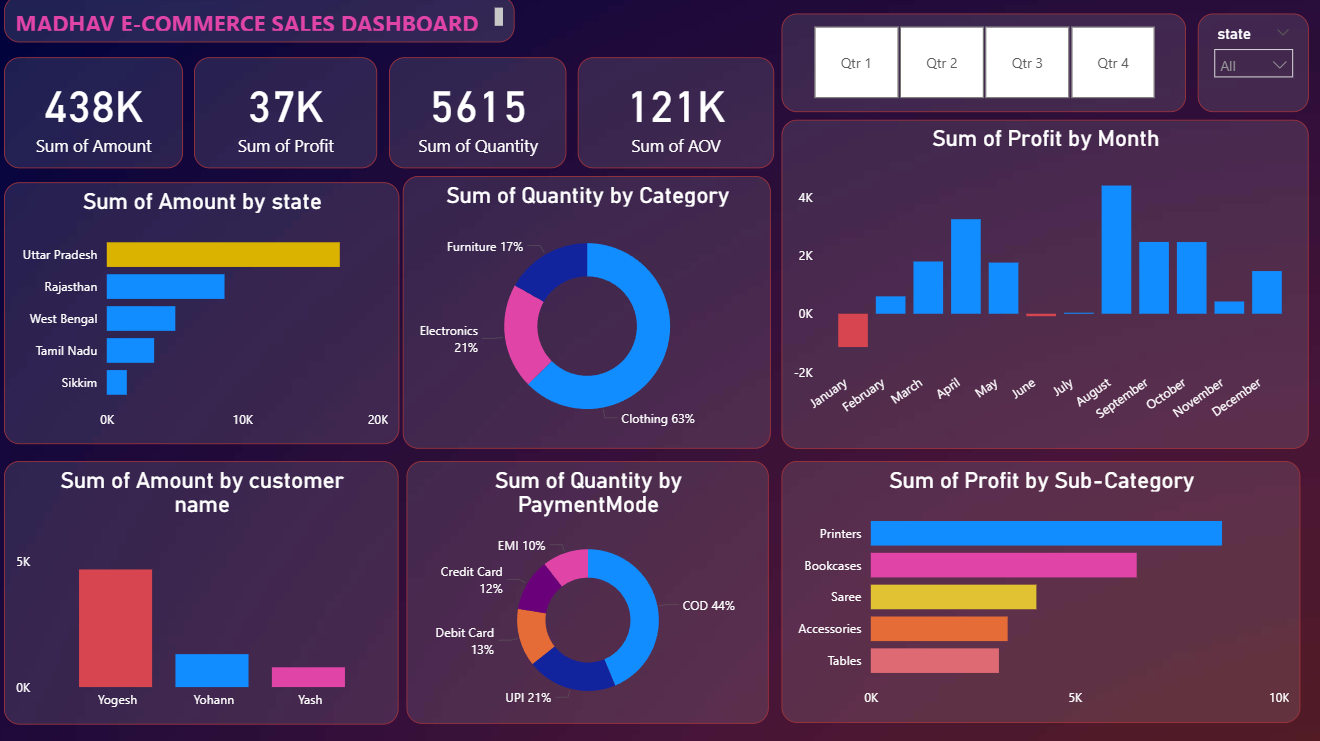

Layout of this report page (visuals, bound fields, positions):
{"tool":"powerbi","page":{"name":"Page 1","canvas":[1280,720],"ordinal":0},"visuals":[{"type":"textbox","box":[9.9,0,492.6,44.4],"z":0},{"type":"columnChart","fields":{"Category":["Orders.date.Variation.Date Hierarchy.Month"],"Y":["Details.Profit"]},"box":[760.5,119.8,508.6,317.3],"z":1000},{"type":"barChart","fields":{"Category":["Details.Sub-Category"],"Y":["Details.Profit"]},"box":[760.2,448.7,500.9,252.5],"z":2000},{"type":"donutChart","fields":{"Category":["Details.Category"],"Y":["Details.Quantity"]},"box":[395.1,174.1,355.6,263],"z":3000},{"type":"donutChart","fields":{"Y":["Details.Quantity"],"Category":["Details.PaymentMode"]},"box":[397.9,448.7,349.9,253.9],"z":4000},{"type":"card","fields":{"Values":["Details.Amount"]},"box":[9.6,59,172.9,107],"z":5000},{"type":"card","fields":{"Values":["Details.Quantity"]},"box":[381.5,59,171.5,107],"z":6000},{"type":"card","fields":{"Values":["Details.Profit"]},"box":[193.5,59,177,107],"z":7000},{"type":"card","fields":{"Values":["Details.AOV"]},"box":[564,59,189.4,107],"z":8000},{"type":"barChart","fields":{"Category":["Orders.state"],"Y":["Details.Amount"]},"box":[9.9,180.2,381.5,253.1],"z":9000},{"type":"columnChart","fields":{"Category":["Orders.customer name"],"Y":["Details.Amount"]},"box":[10,449,381,254],"z":10000},{"type":"slicer","fields":{"Values":["Orders.date.Variation.Date Hierarchy.Quarter"]},"box":[760.5,17.3,390.1,95.1],"z":11000},{"type":"slicer","fields":{"Values":["Orders.state"]},"box":[1161.7,17.3,107.4,95.1],"z":11001}]}

Visuals, with their boxes in screenshot pixels (x1, y1, x2, y2), scaled from the page's 1280x720 canvas onto the 1320x741 screenshot:
textbox: box=[10, 0, 518, 46]
columnChart - Orders.date.Variation.Date Hierarchy.Month x Details.Profit: box=[784, 123, 1309, 450]
barChart - Details.Sub-Category x Details.Profit: box=[784, 462, 1301, 722]
donutChart - Details.Category x Details.Quantity: box=[407, 179, 774, 450]
donutChart - Details.Quantity x Details.PaymentMode: box=[410, 462, 771, 723]
card - Details.Amount: box=[10, 61, 188, 171]
card - Details.Quantity: box=[393, 61, 570, 171]
card - Details.Profit: box=[200, 61, 382, 171]
card - Details.AOV: box=[582, 61, 777, 171]
barChart - Orders.state x Details.Amount: box=[10, 185, 404, 446]
columnChart - Orders.customer name x Details.Amount: box=[10, 462, 403, 724]
slicer - Orders.date.Variation.Date Hierarchy.Quarter: box=[784, 18, 1187, 116]
slicer - Orders.state: box=[1198, 18, 1309, 116]
